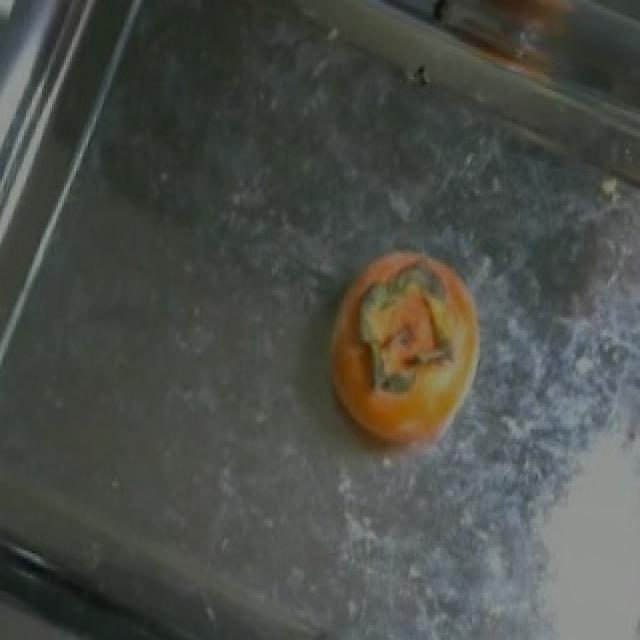Fruit: (304, 233, 502, 479)
